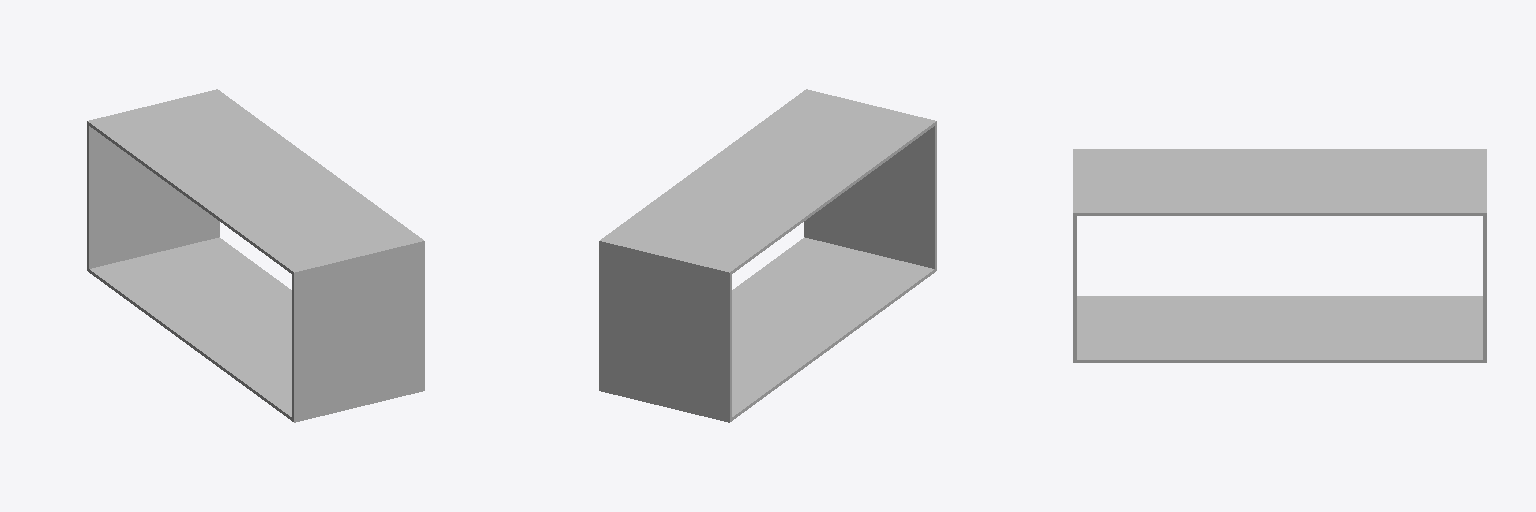
File: Tunnel.obj
The picture shows the model from 3 angles: view 1: azimuth 30°, elevation 25°; view 2: azimuth 150°, elevation 25°; view 3: azimuth 270°, elevation 25°; orthographic projection.
Parts seen in each view (by area): view 1: object 1; view 2: object 1; view 3: object 1.
Part boxes in pixels (x1,y1,x2,y2): object 1: (87, 89, 424, 422); object 1: (599, 89, 936, 422); object 1: (1073, 149, 1486, 362).
Size of the model in its own units: 4 by 4.4 by 11.